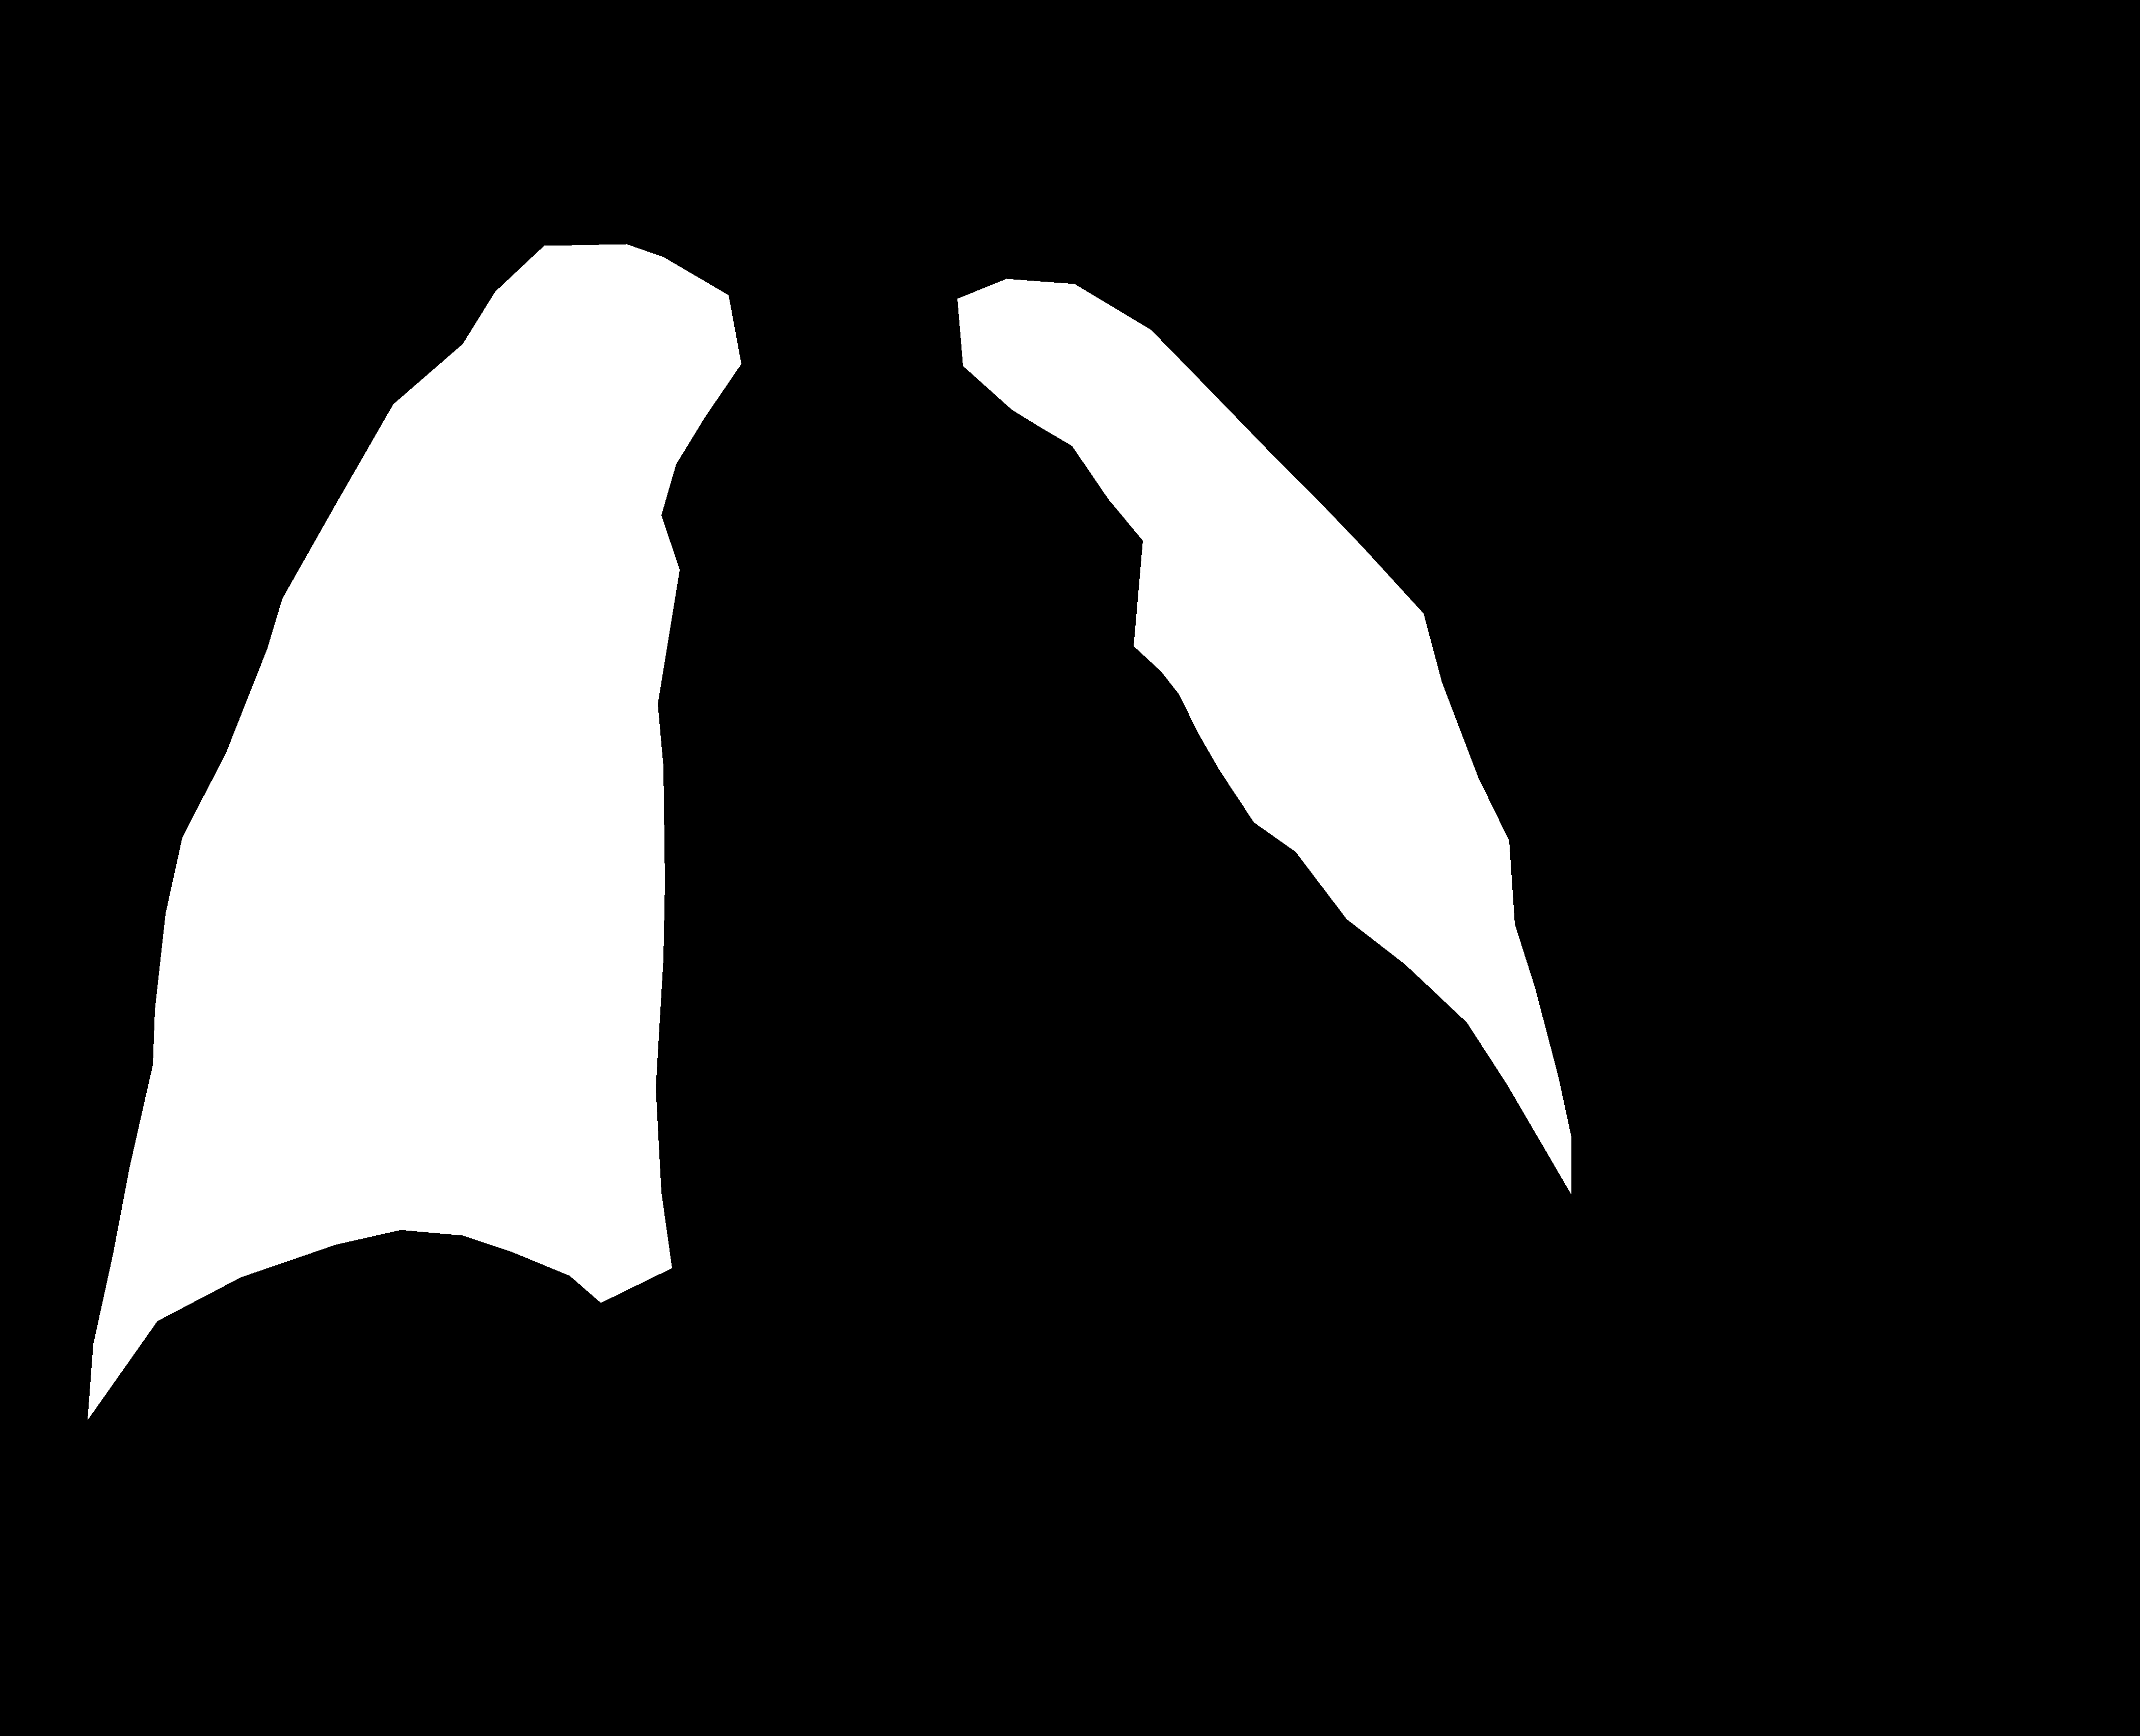heart: (659, 627, 1582, 1323)
left_lung: (87, 244, 740, 1419)
right_lung: (957, 278, 1571, 1194)
